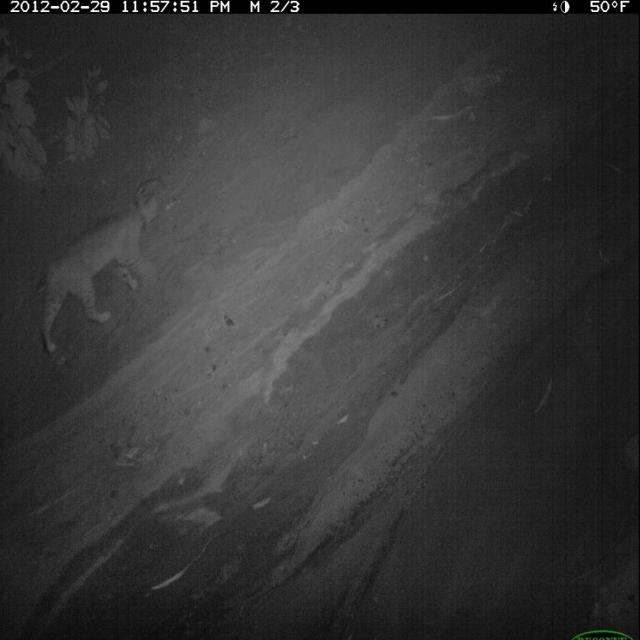bobcat: (33, 175, 165, 360)
